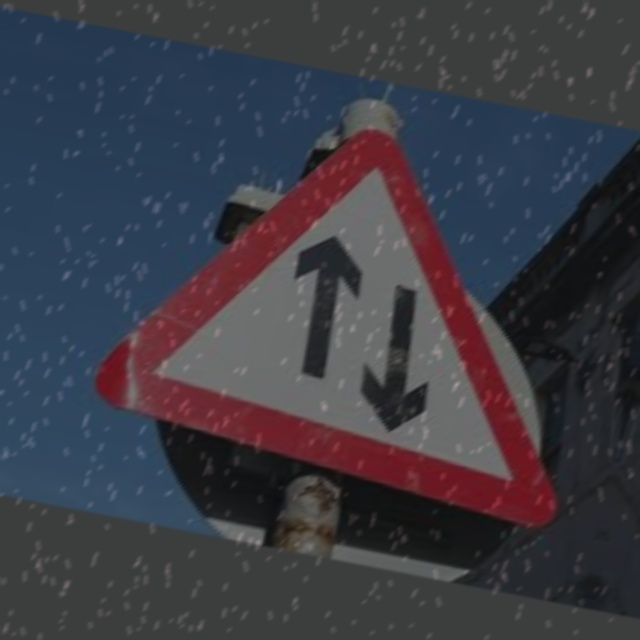Mandatory_Two_Way_Traffic: (88, 87, 624, 536)
